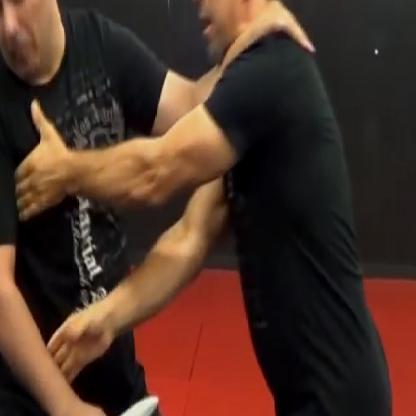knife: (60, 385, 164, 415)
